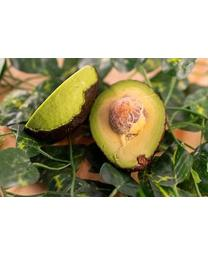avocado: (87, 79, 166, 169), (20, 65, 100, 144)
